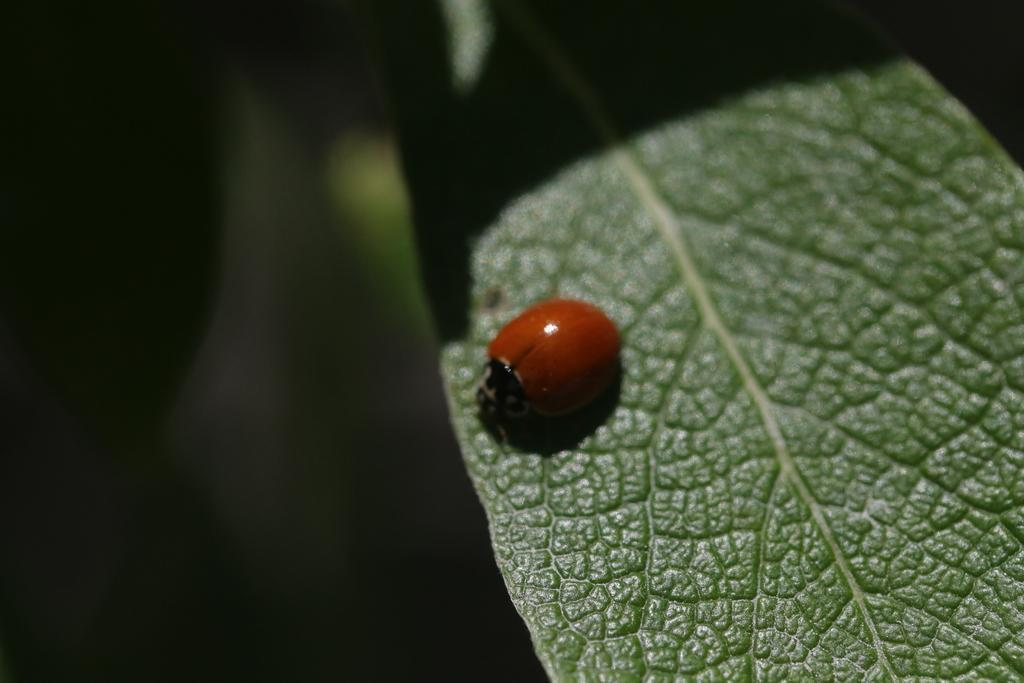ladybug: (471, 295, 631, 441)
